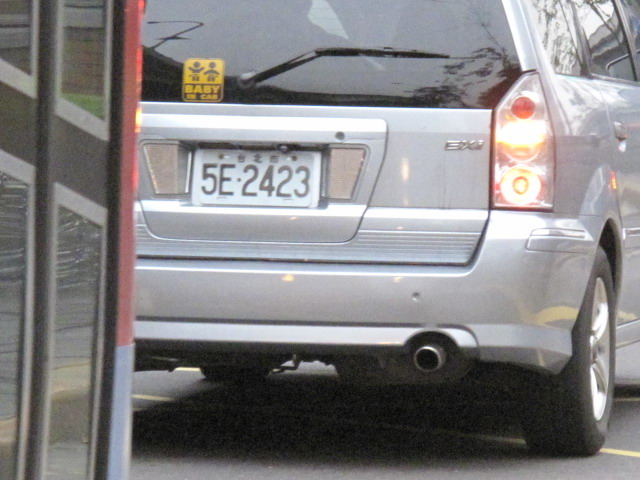plate: (195, 147, 318, 207)
